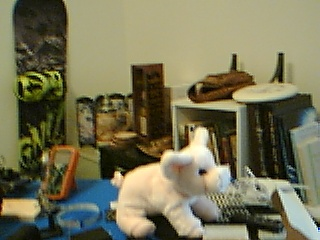piggy: (109, 124, 233, 240)
